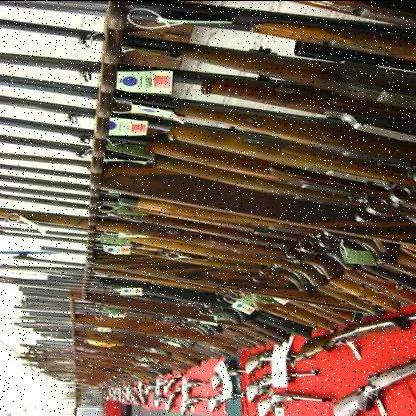rifle: (329, 344, 415, 416), (225, 365, 335, 400), (242, 388, 348, 416)
